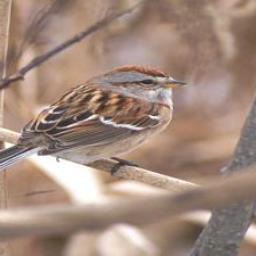Sparrow: (0, 64, 194, 179)
